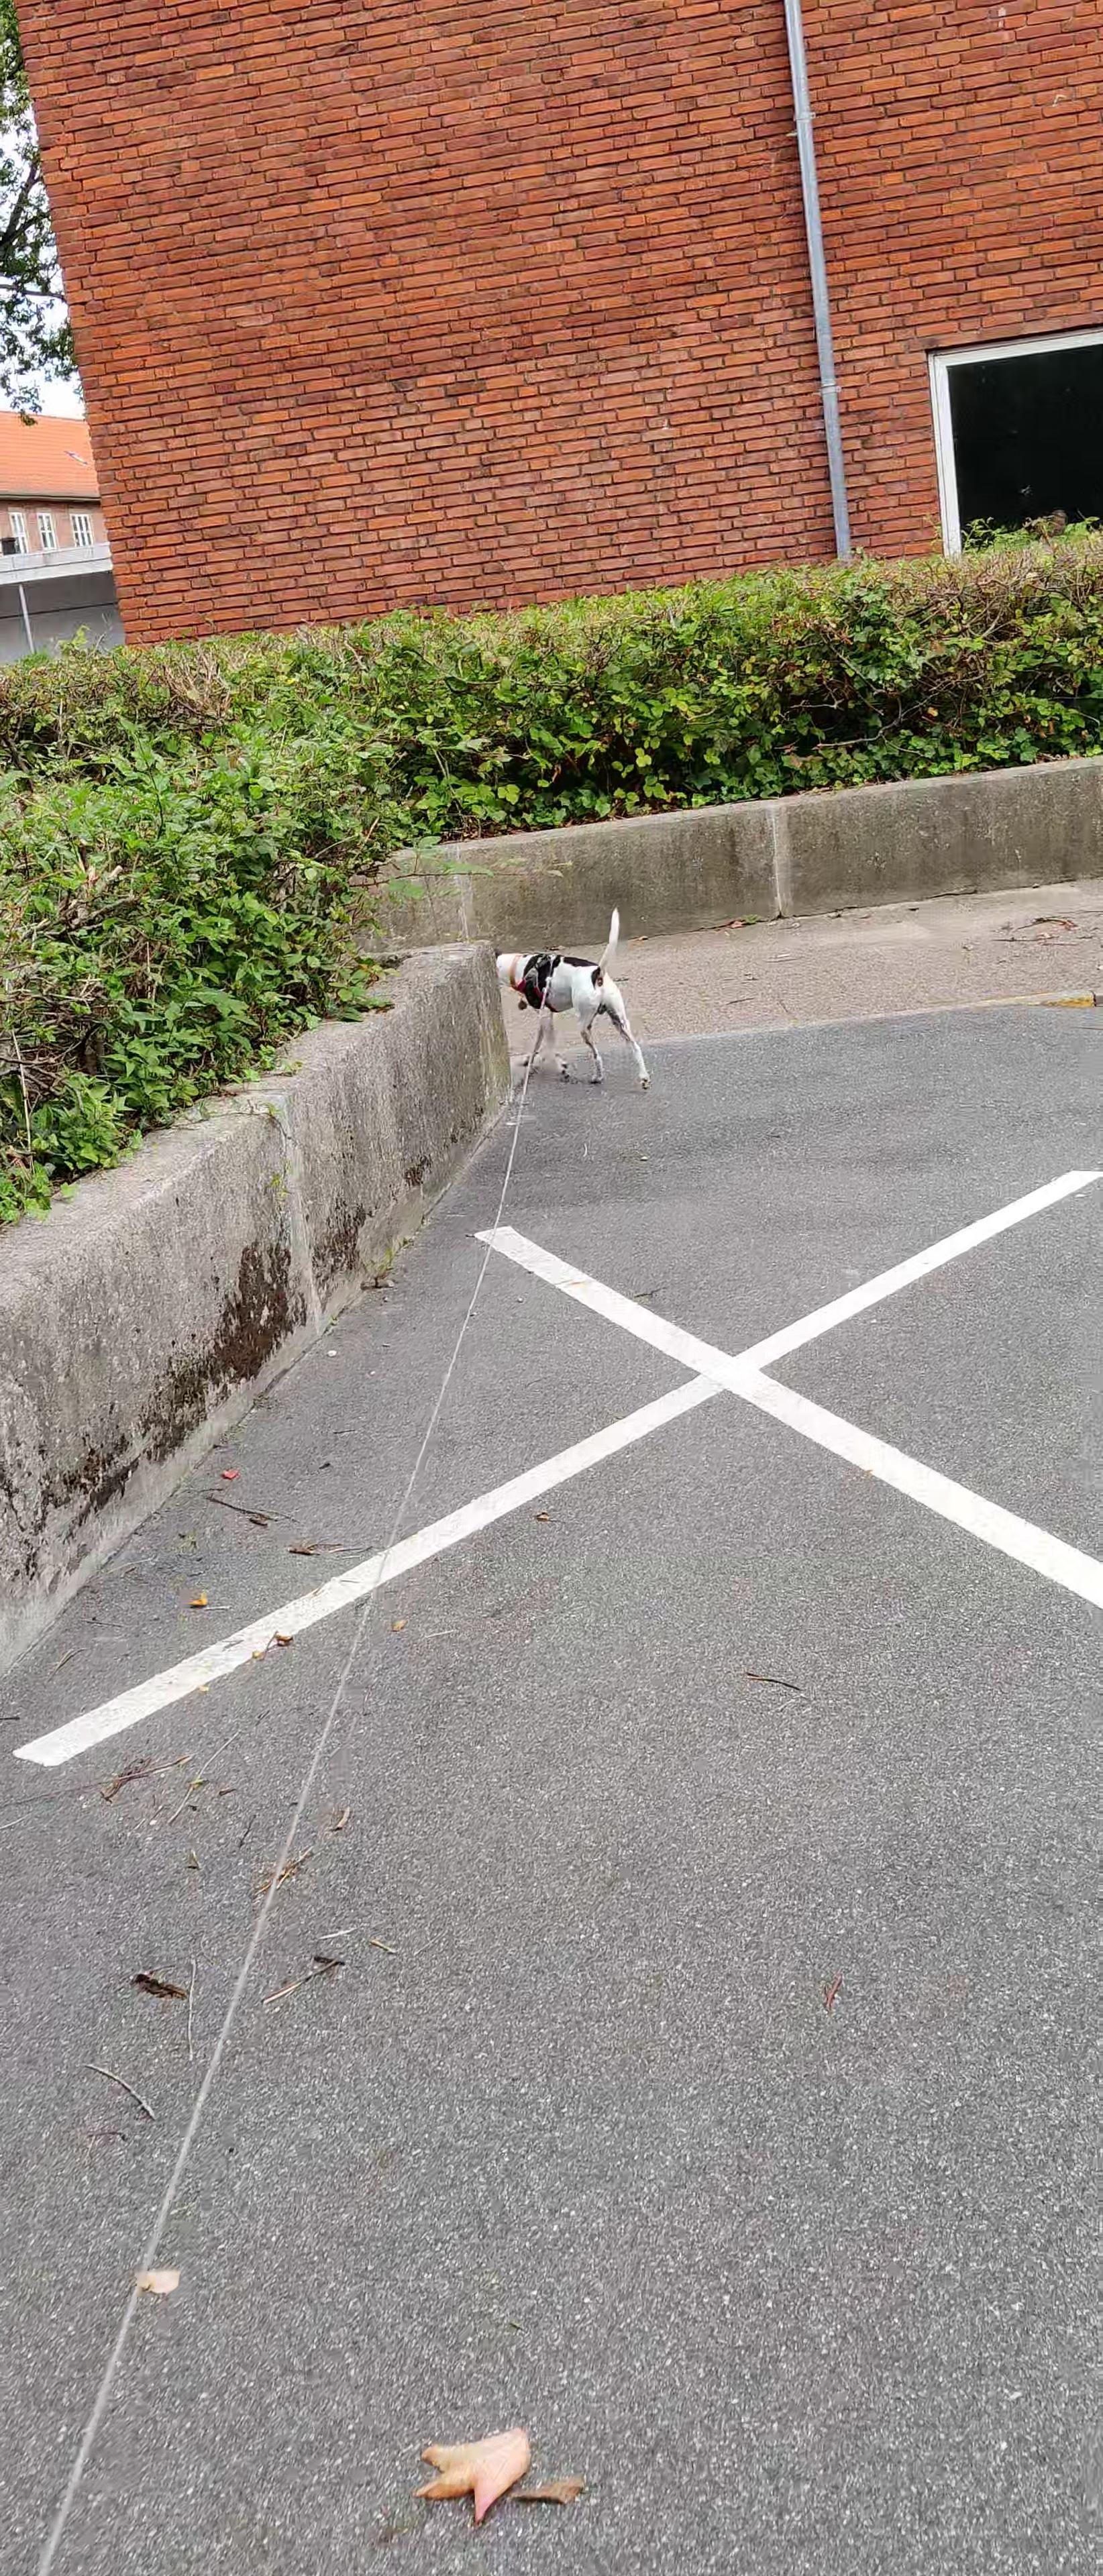Dog: (488, 897, 653, 1091)
